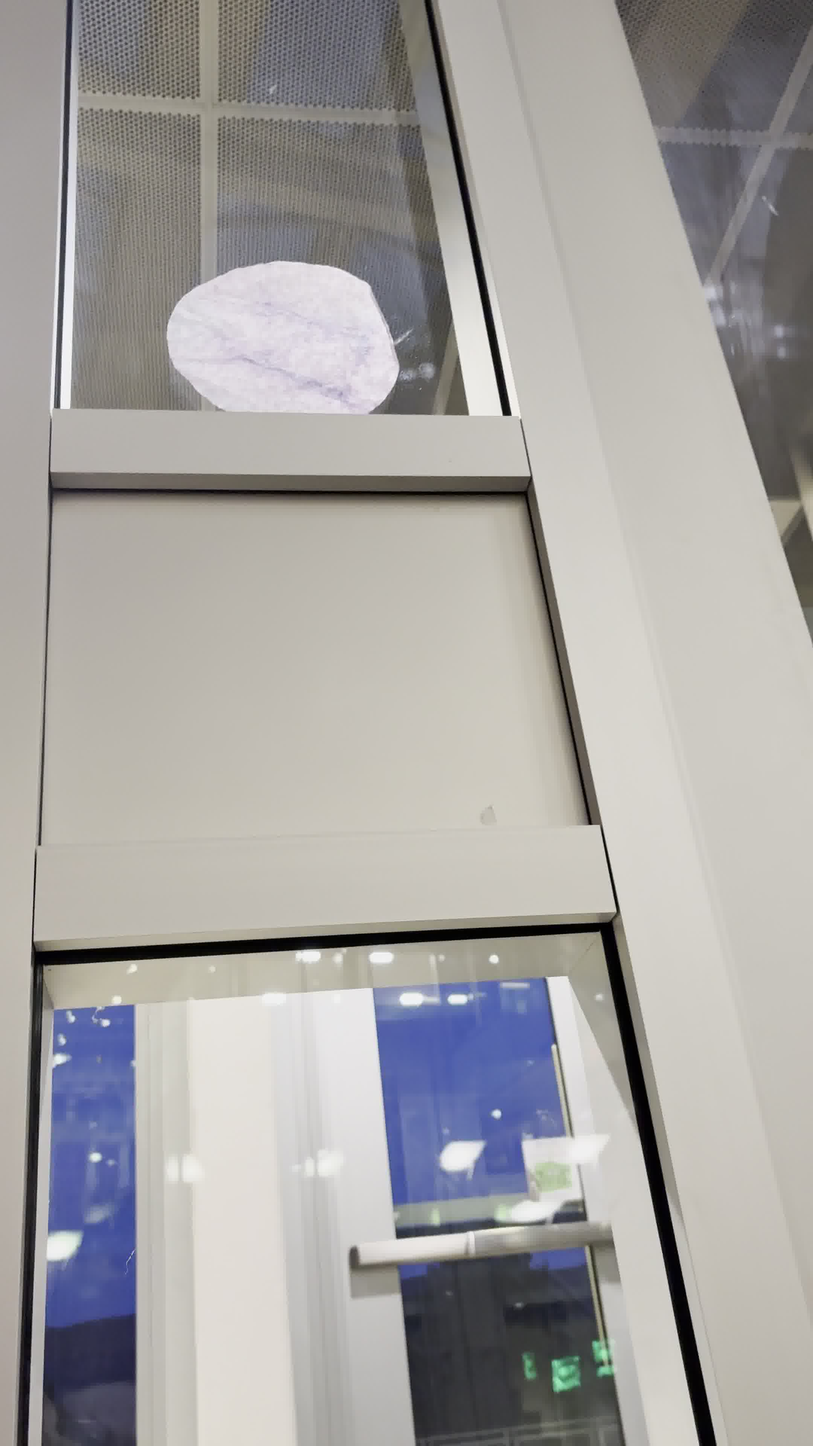Target: (163, 258, 403, 419)
